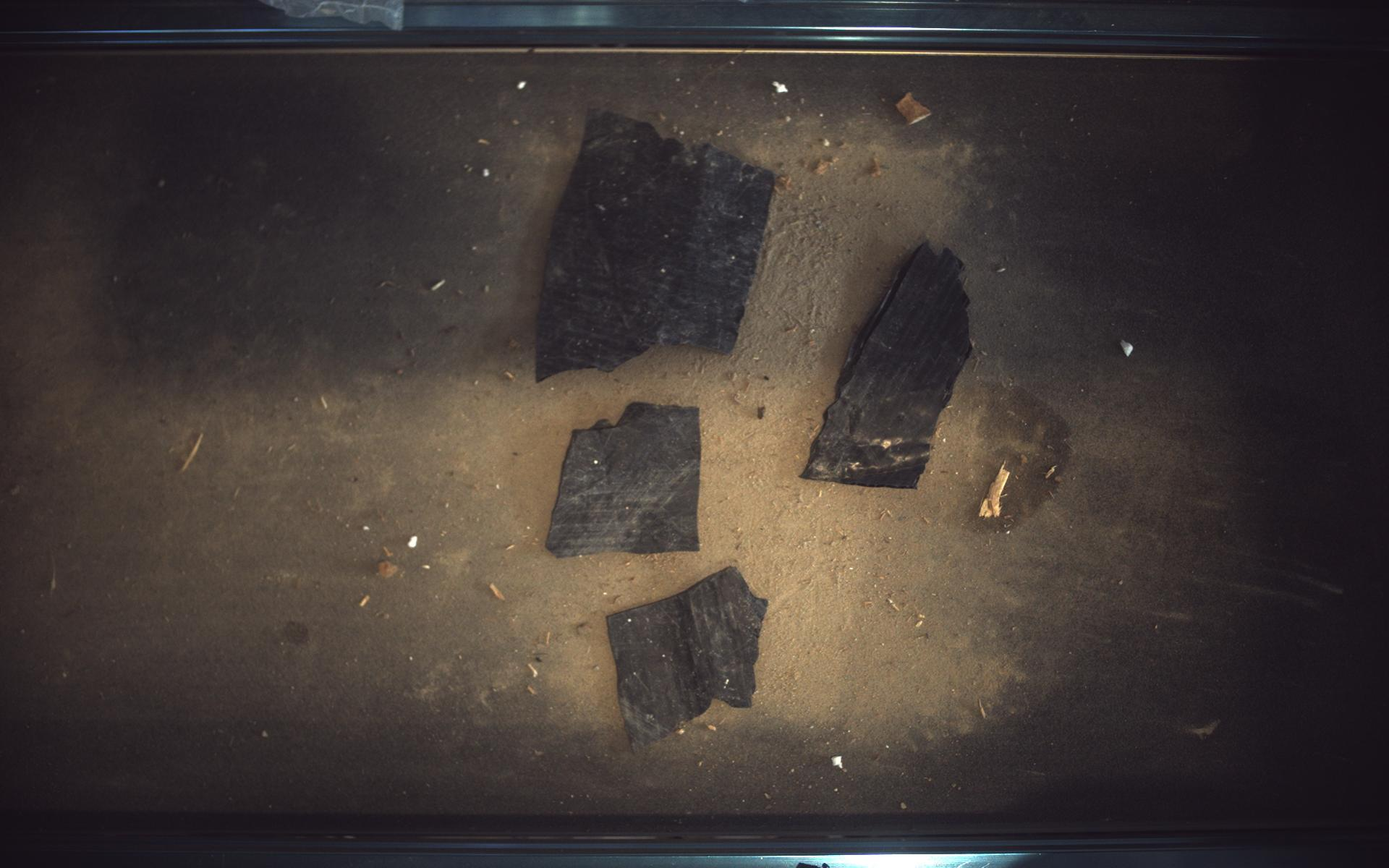plastic: (536, 110, 776, 381), (803, 242, 974, 488), (608, 567, 769, 751), (547, 402, 702, 558)
